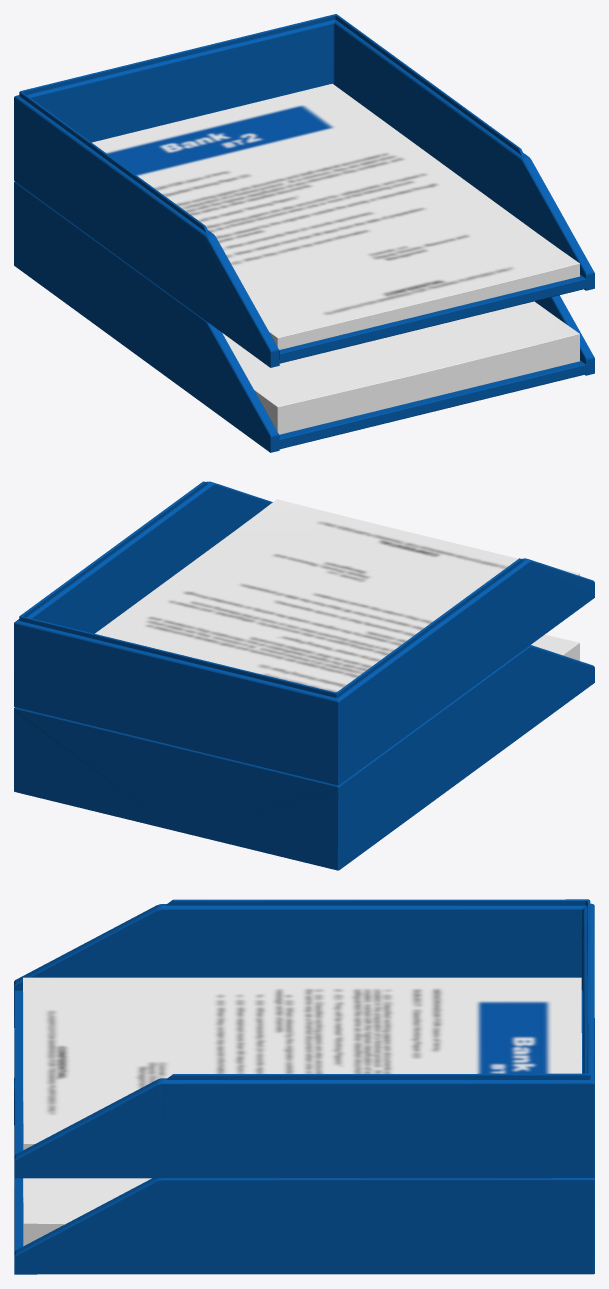
The picture shows the model from 3 angles, top to bottom: view 1: azimuth 30°, elevation 25°; view 2: azimuth 150°, elevation 25°; view 3: azimuth 270°, elevation 25°; orthographic projection. The views are drawn at different scales.
Visible parts, largest first — view 1: file; view 2: file; view 3: file.
Part boxes in pixels (<box>): file: <box>14,14,594,452</box>; file: <box>14,481,594,870</box>; file: <box>14,899,594,1274</box>.
Size of the model in its own units: 22.58 by 11.59 by 30.88.
Materials: 2 (2 with a texture image).
